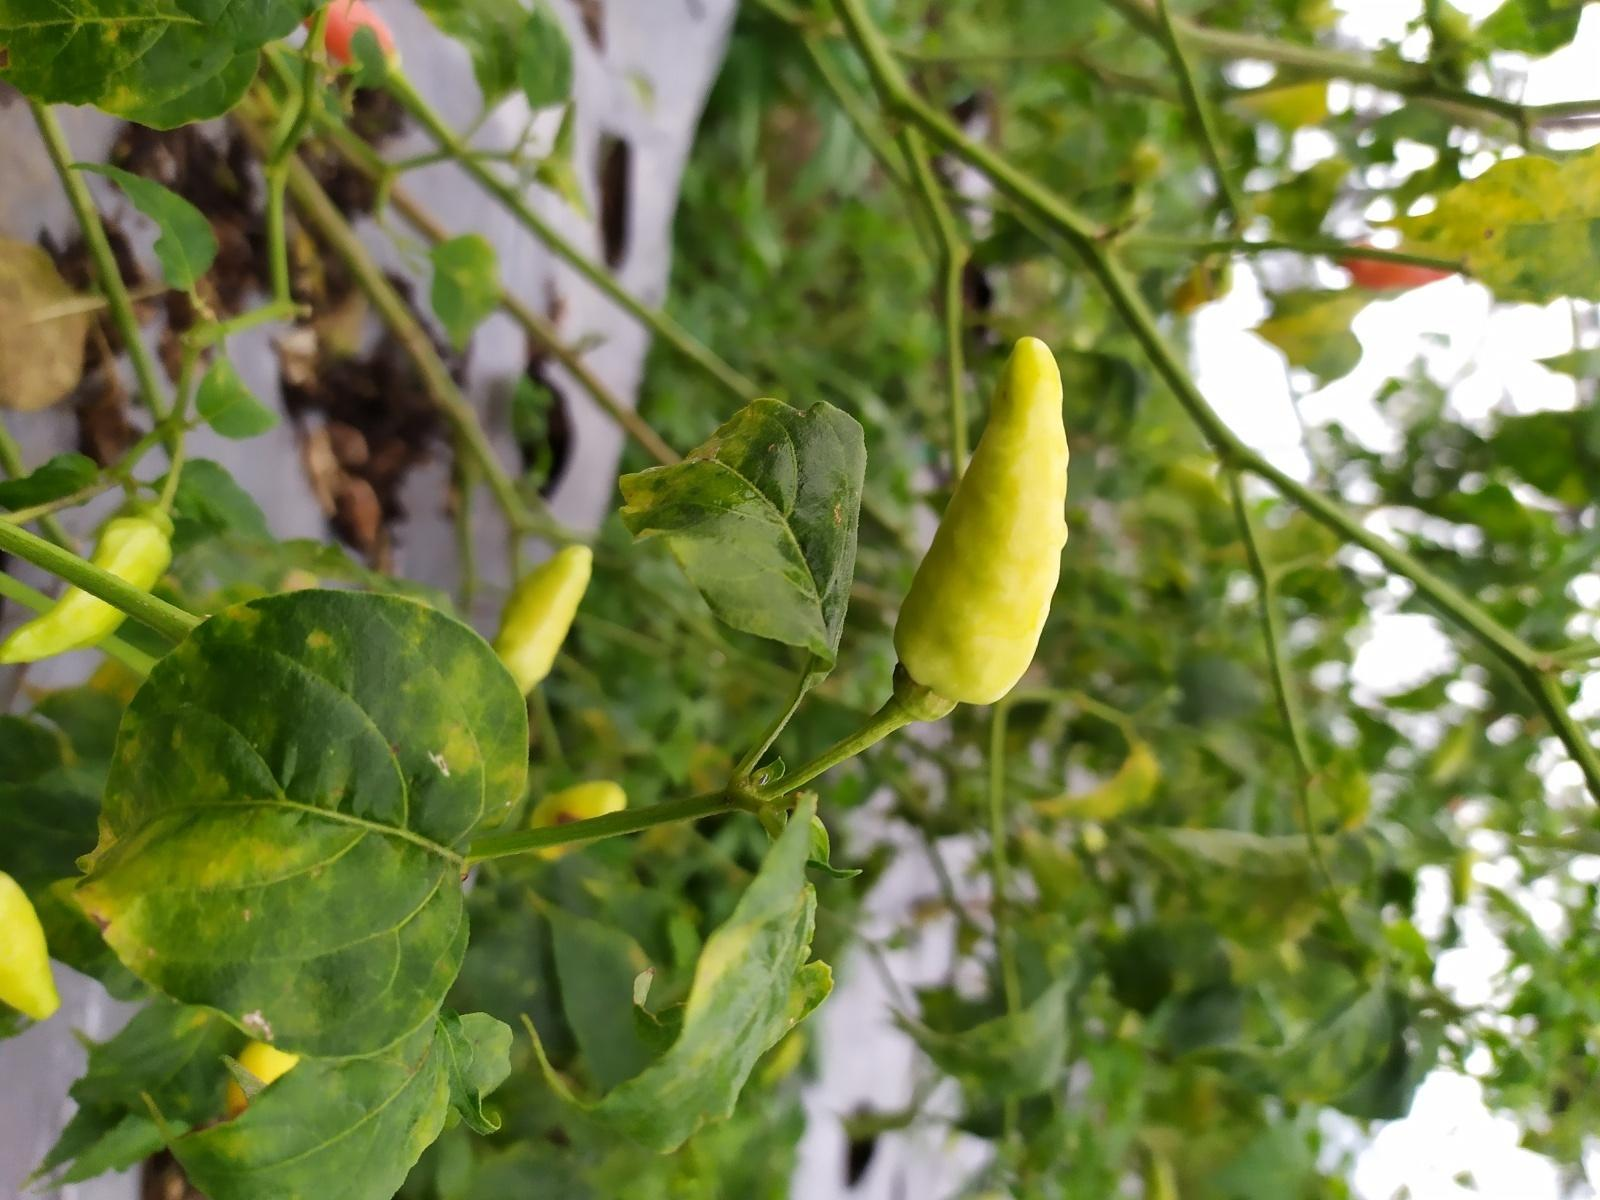cabai_normal: (893, 337, 1070, 706), (0, 517, 174, 667), (489, 543, 595, 698)
